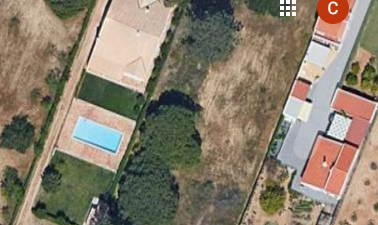pool: (73, 120, 121, 152)
